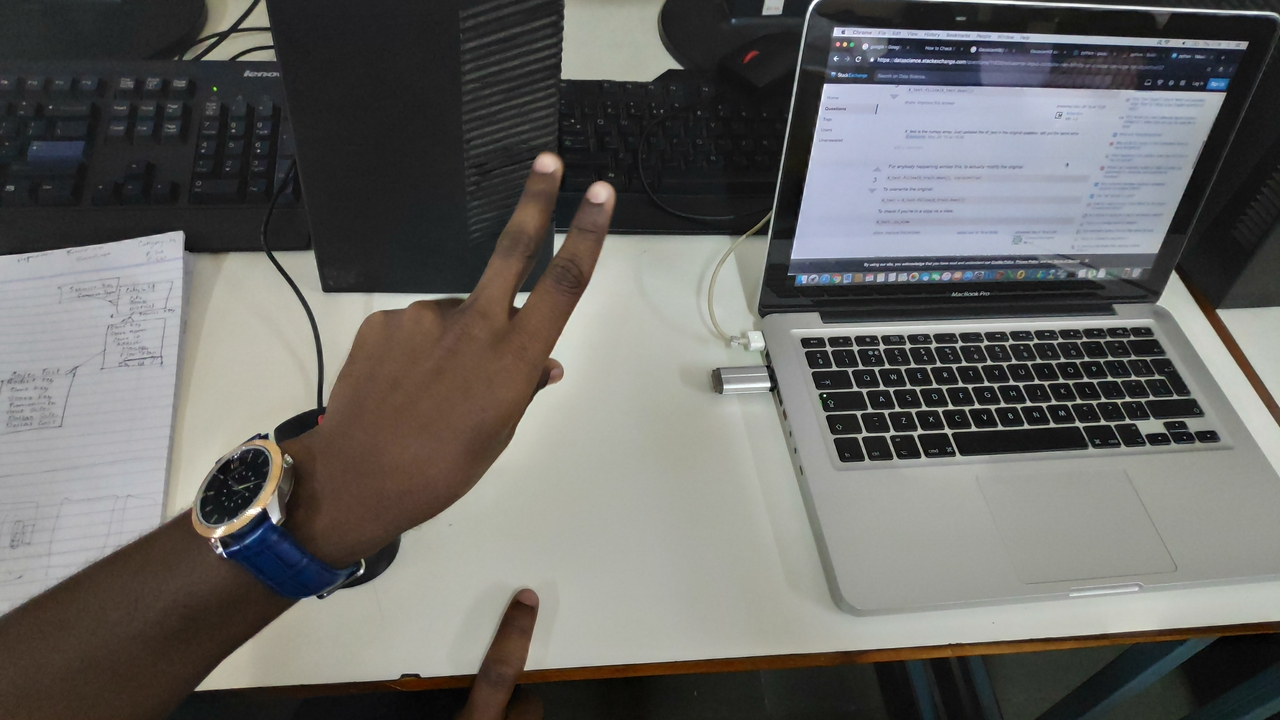fingertip: (568, 166, 624, 218), (518, 138, 572, 182)
